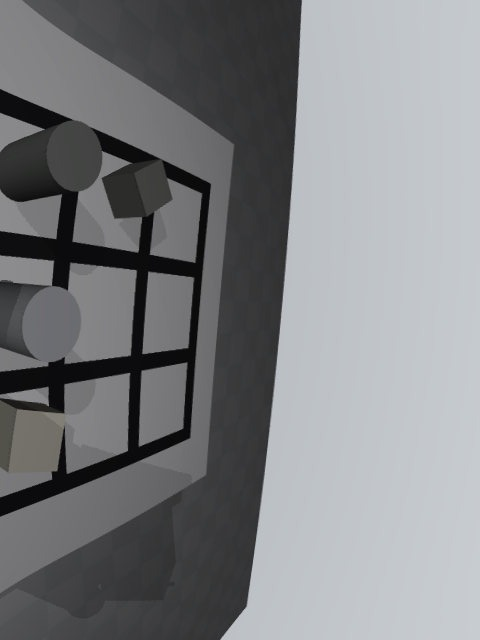can: (0, 282, 81, 362)
cube: (102, 159, 173, 219)
cylinder: (0, 120, 103, 202)
foam: (0, 398, 66, 473)
